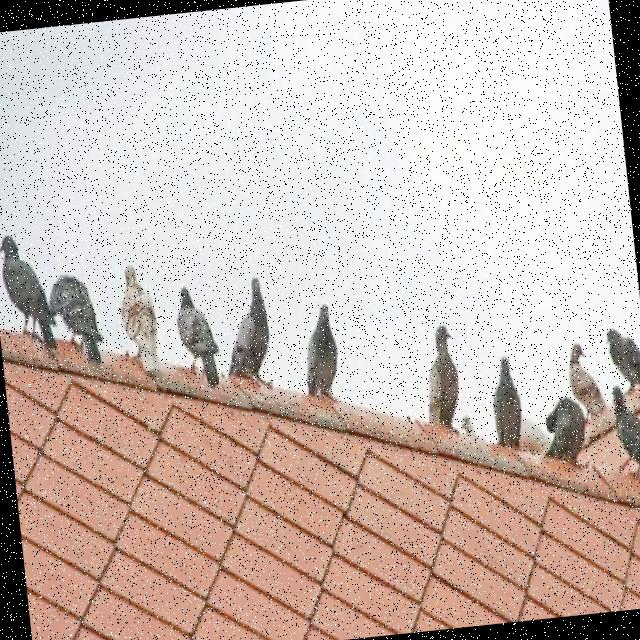bird: (0, 229, 60, 357), (217, 274, 276, 392), (44, 269, 106, 370), (172, 282, 224, 390), (114, 261, 162, 374), (418, 322, 464, 432), (297, 302, 343, 406), (486, 353, 526, 452), (538, 394, 590, 466), (565, 340, 608, 421), (609, 379, 640, 484), (603, 323, 640, 391), (458, 413, 476, 438)
